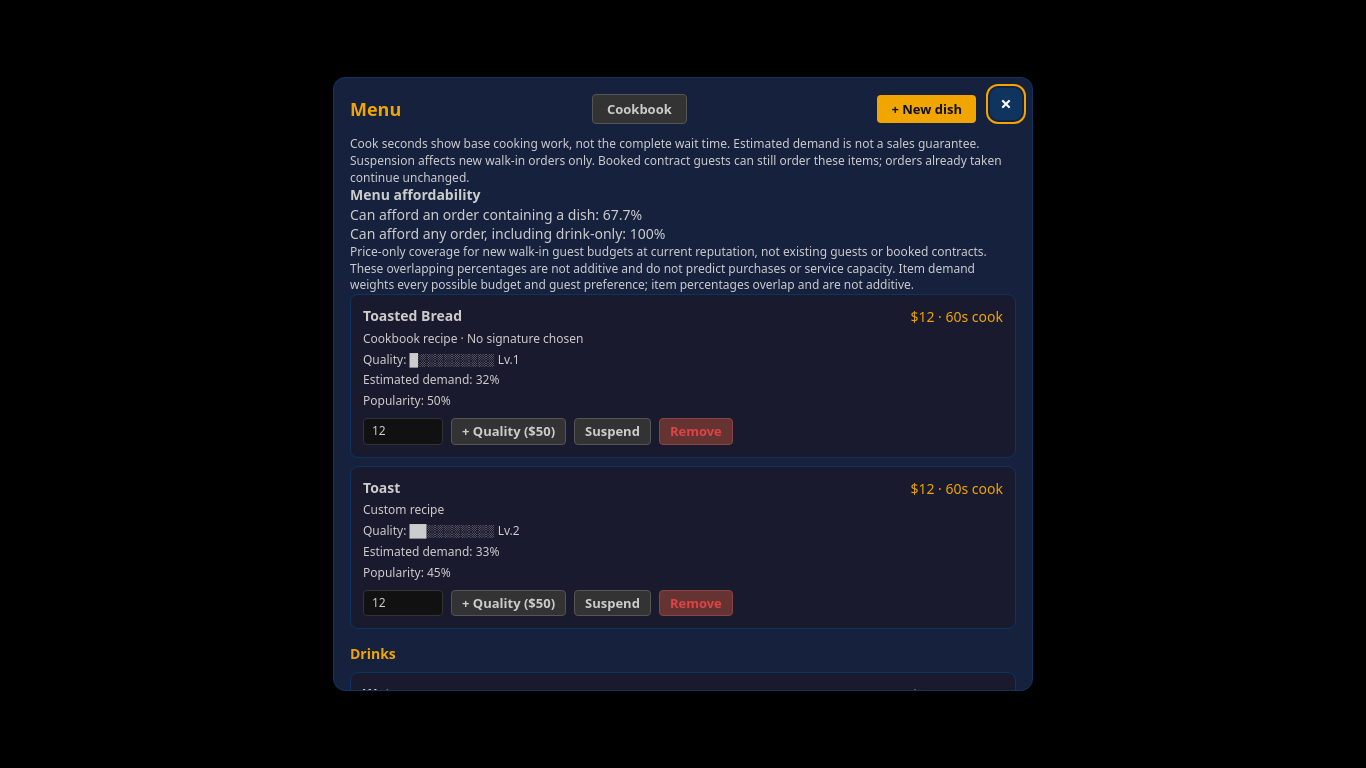
Test: MenuModal › cancels a real removal confirmation on child Escape without closing the modal
Click the button with aria-label "Remove Toast from menu". click: (696, 603)
box: 659,590 -> 733,616
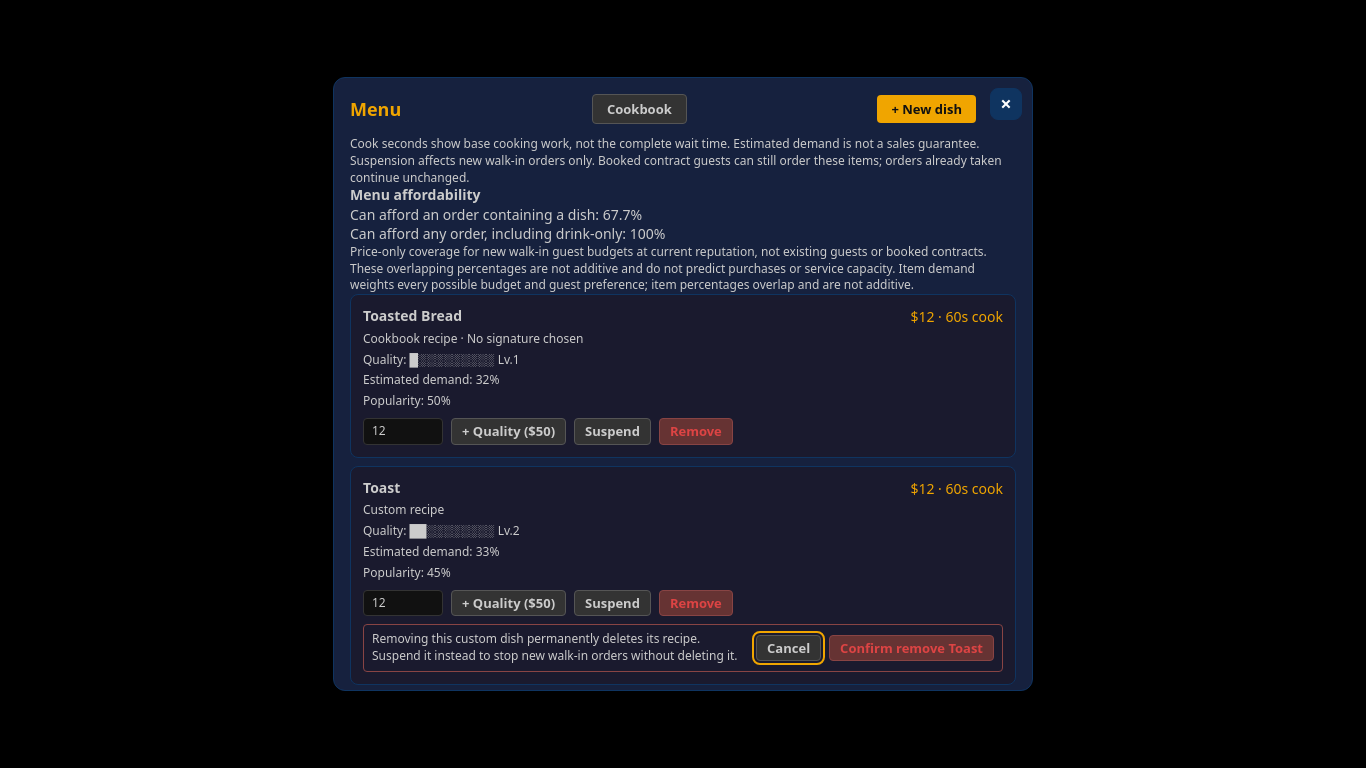
Press Escape in the button "Cancel", box 756,635 -> 821,661
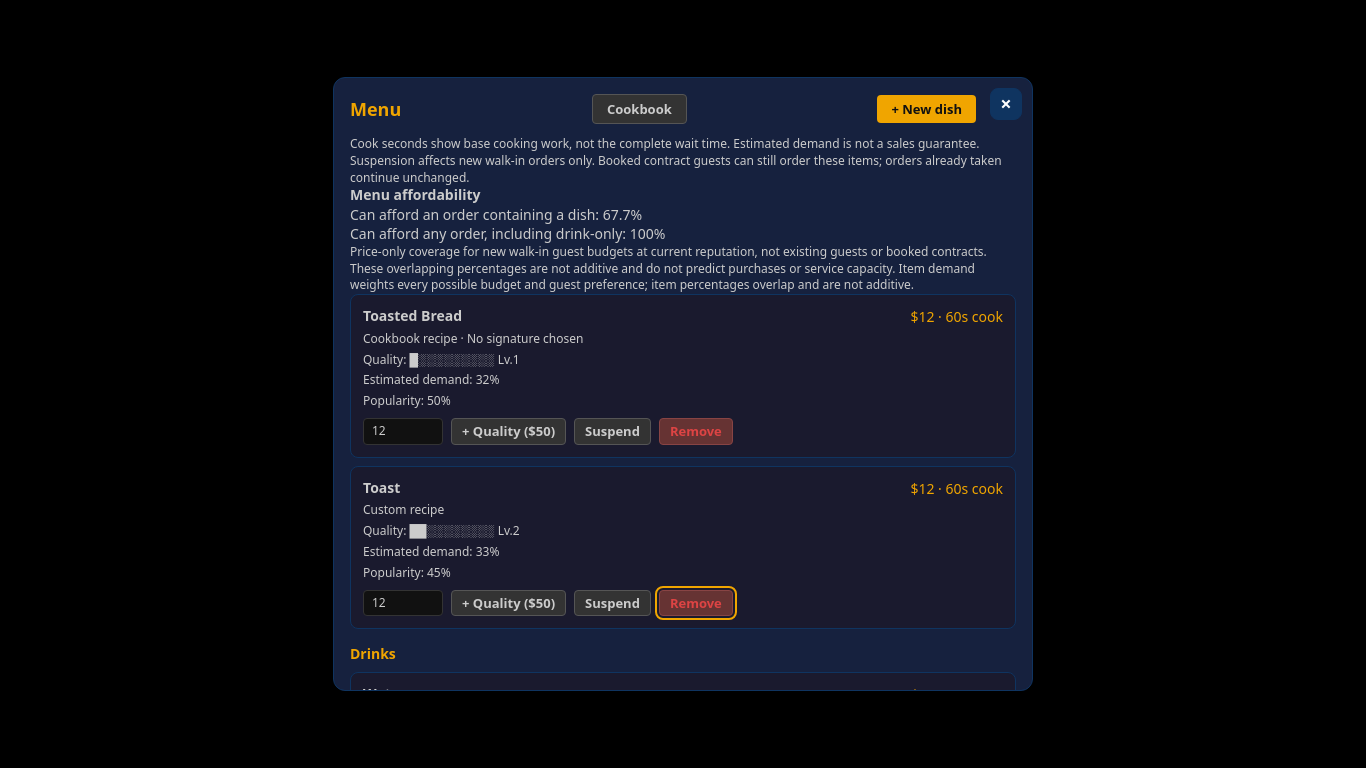
Check: the dialog "Menu" is shown, box 333,77 -> 1033,691
Check: the text "permanently deletes its recipe" is gone
